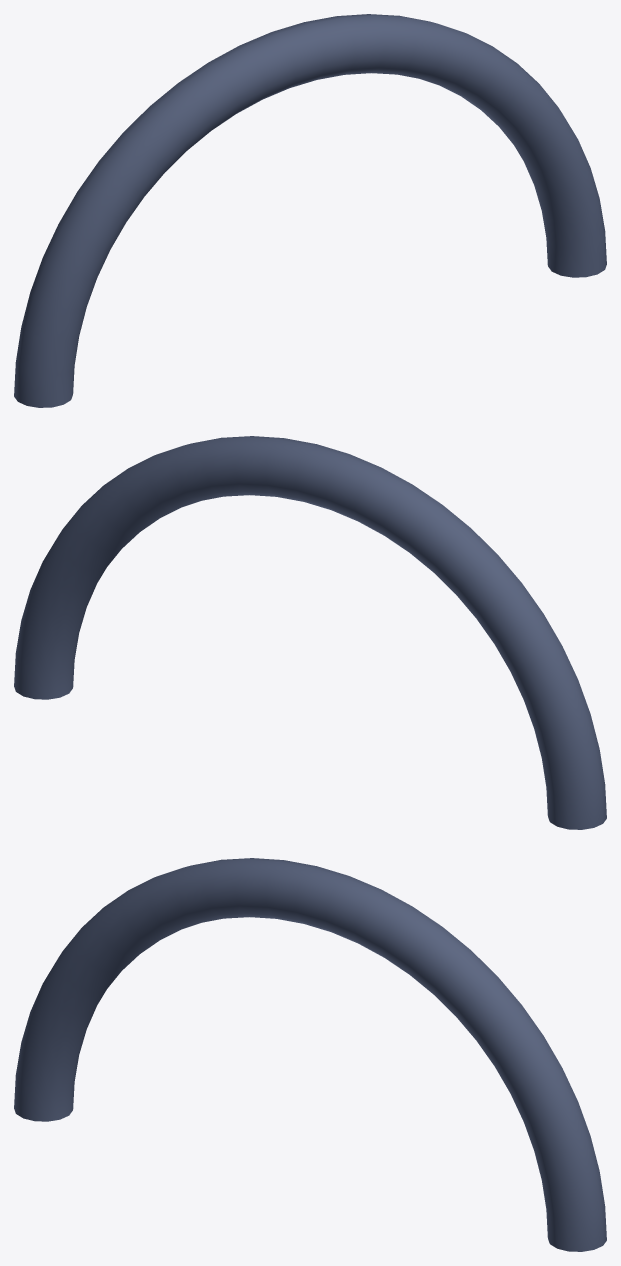
Rendered from broken-ring.glb.
3 views of the same model, one above another, from view 1: azimuth 30°, elevation 25°; view 2: azimuth 150°, elevation 25°; view 3: azimuth 330°, elevation 25° (orthographic).
Visible parts, largest first — view 1: broken-ring-body; view 2: broken-ring-body; view 3: broken-ring-body.
Boxes of the visible parts, x1,y1,x2,y2 form: broken-ring-body: (14,14,606,407); broken-ring-body: (14,436,606,829); broken-ring-body: (14,858,606,1251).
Size of the model in its own units: 5.7 by 2.85 by 0.4875.
